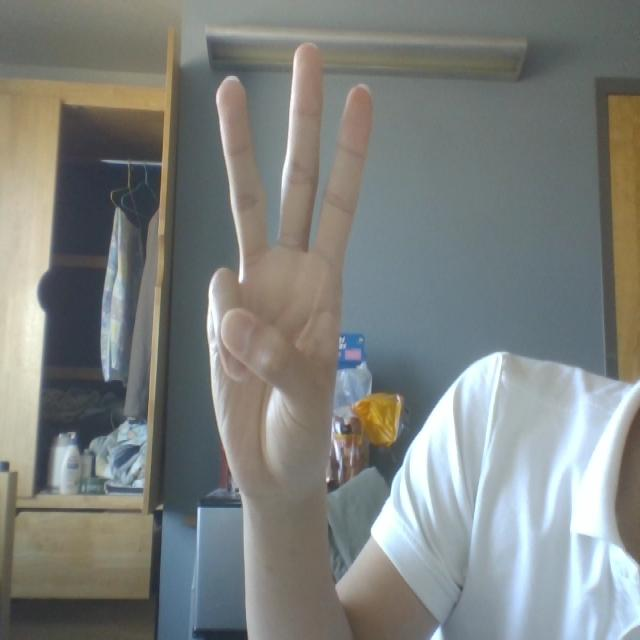W: (174, 22, 403, 496)
